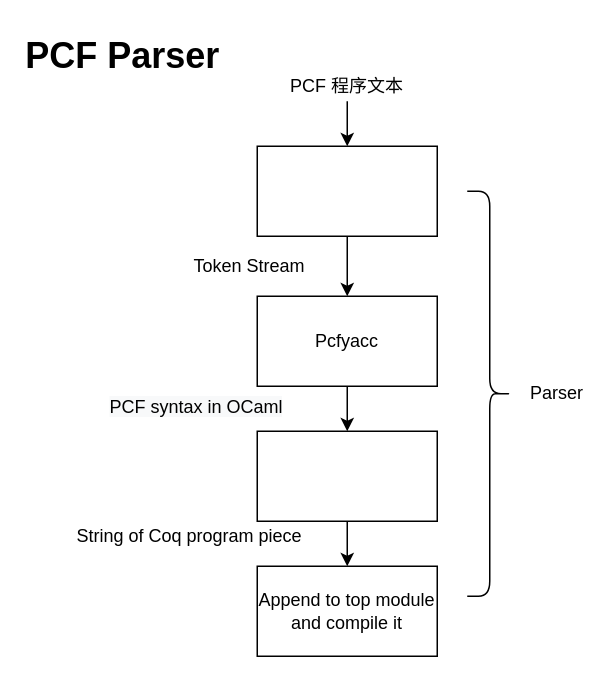
This 614x683 diagram has some shape labels left out. Here are the shapes that lost their labels. From the top down, the box of each, then its label:
(256, 145, 437, 236): Lexer
(256, 430, 437, 521): PCF program printer
